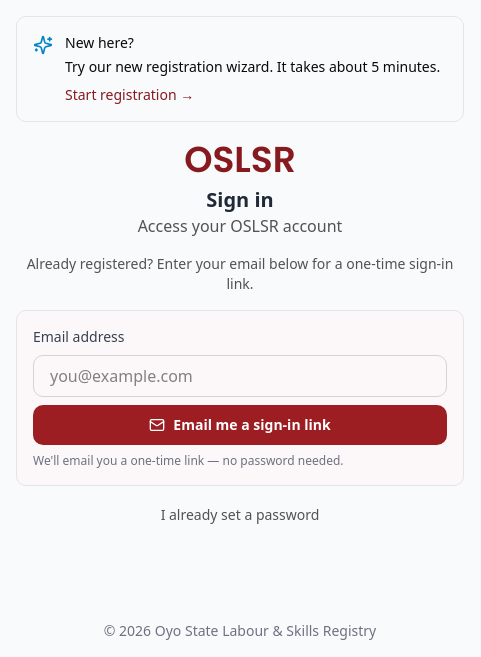
Test case: LoginPage › submits a login-purpose magic-link request and shows the generic confirmation
This screenshot has width=481, height=657.
Type "returning@example.com" into the field with test id "magic-link-email-input" at (240, 376), box [33,355,447,397]
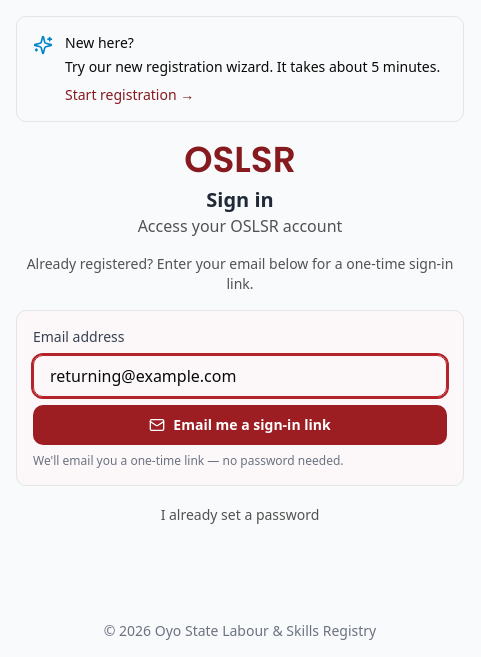
Click the button with test id "magic-link-submit-button" at (240, 425), box [33,405,447,445]
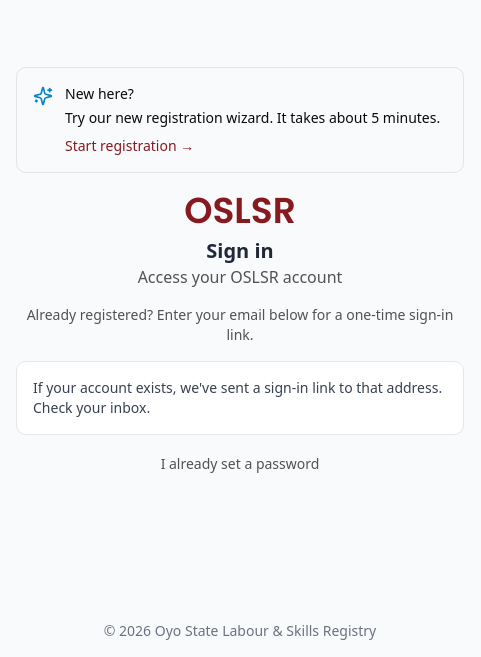
Check: the text with test id "magic-link-sent-message" is shown, box [33,378,447,418]
Check: the text with test id "magic-link-sent-message" shows "If your account exists", box [33,378,442,417]
